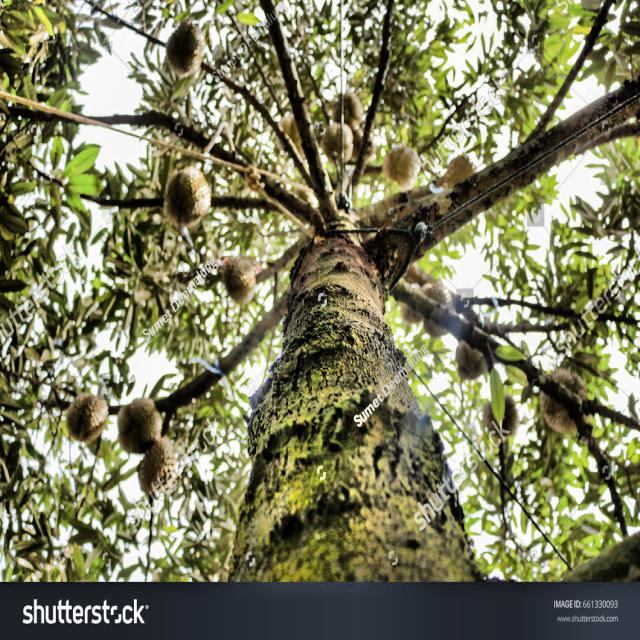arvore: (234, 140, 482, 584)
